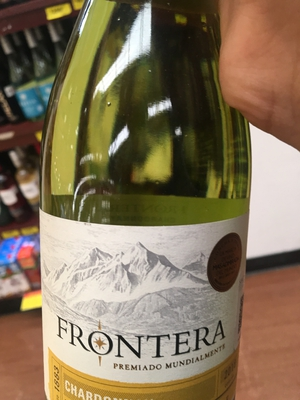frontera chardonnay: (39, 20, 258, 400)
